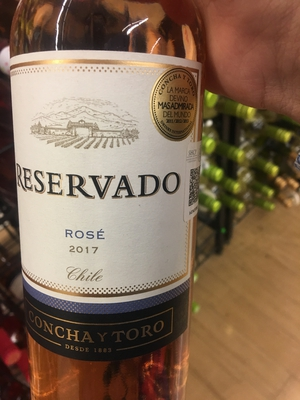reservado rose: (10, 8, 201, 400)
